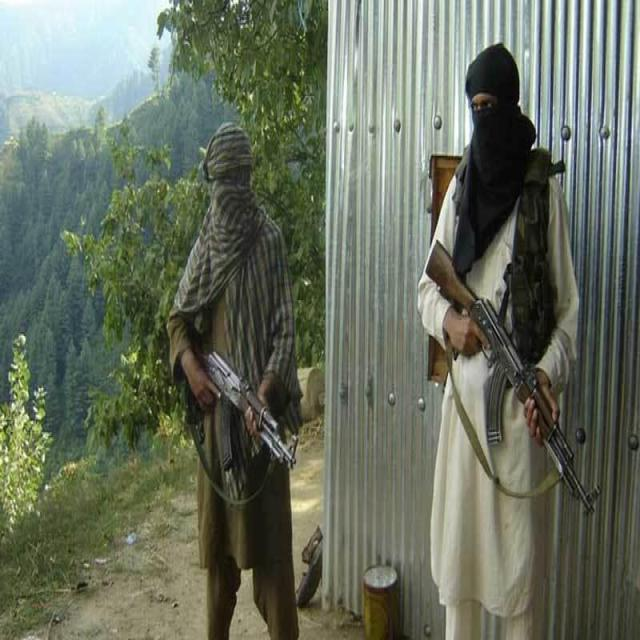Forest: (0, 0, 640, 640)
Militant: (414, 29, 594, 640), (163, 103, 332, 637)
